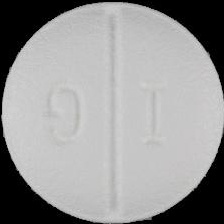42254-066: (0, 0, 224, 224)
